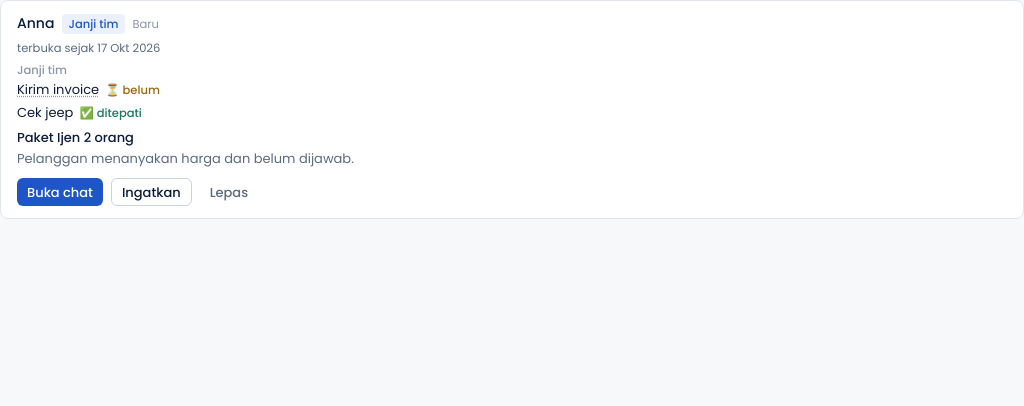
Scenario: SummaryQueue › kartu PROMISE: label "Janji tim", daftar janji, dan aksi utama "Buka chat" ke pesan janji
The image size is (1024, 406).
Expected: the text "Janji tim" next to "Anna" is shown, [68, 16, 118, 32]
Expected: the text "terbuka sejak 17 Okt 2026" is shown, [17, 40, 160, 56]
Click the button "Ingatkan" at (151, 192), box [111, 178, 192, 206]
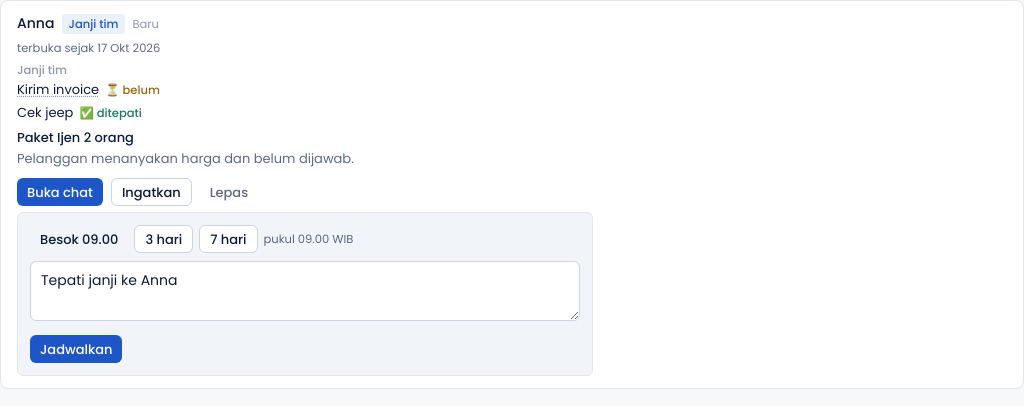
Now the text box named "Catatan pengingat" holds "Tepati janji ke Anna", box [30, 261, 580, 321]
